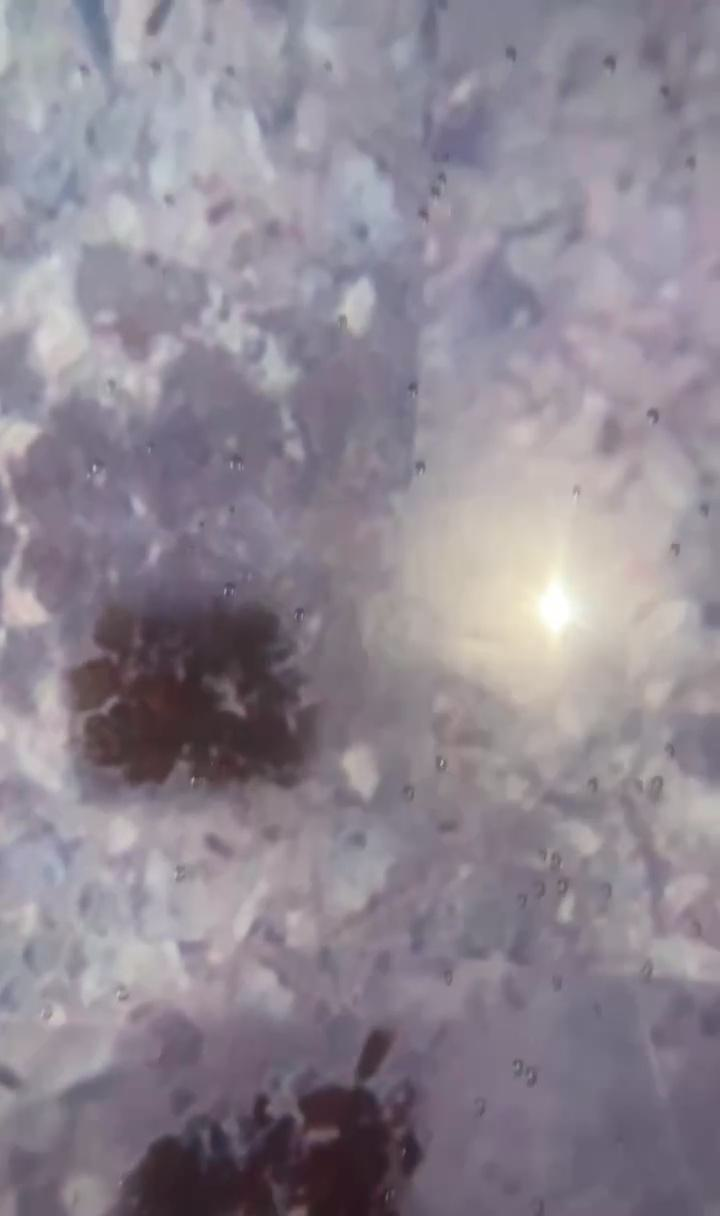Corrosion: (101, 1025, 425, 1216), (60, 601, 324, 792)
